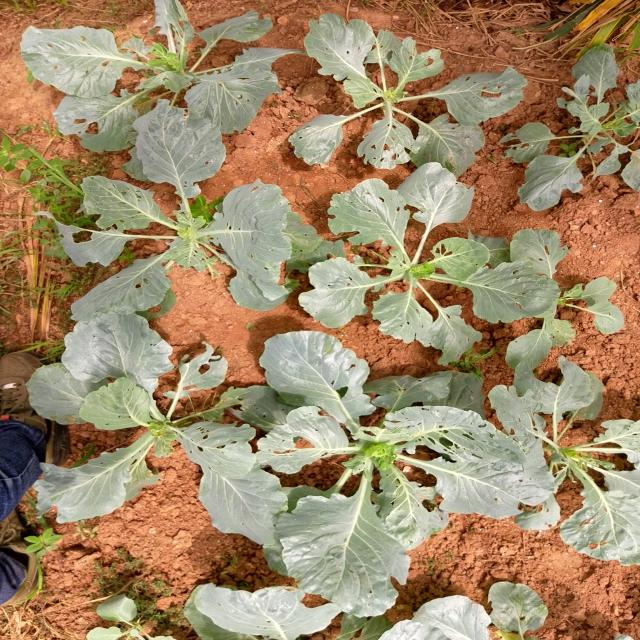Cabbage: (226, 344, 482, 580), (26, 290, 244, 550), (28, 0, 271, 227), (314, 161, 509, 376), (481, 320, 640, 574), (301, 5, 488, 217), (166, 573, 528, 640), (517, 62, 640, 236)
